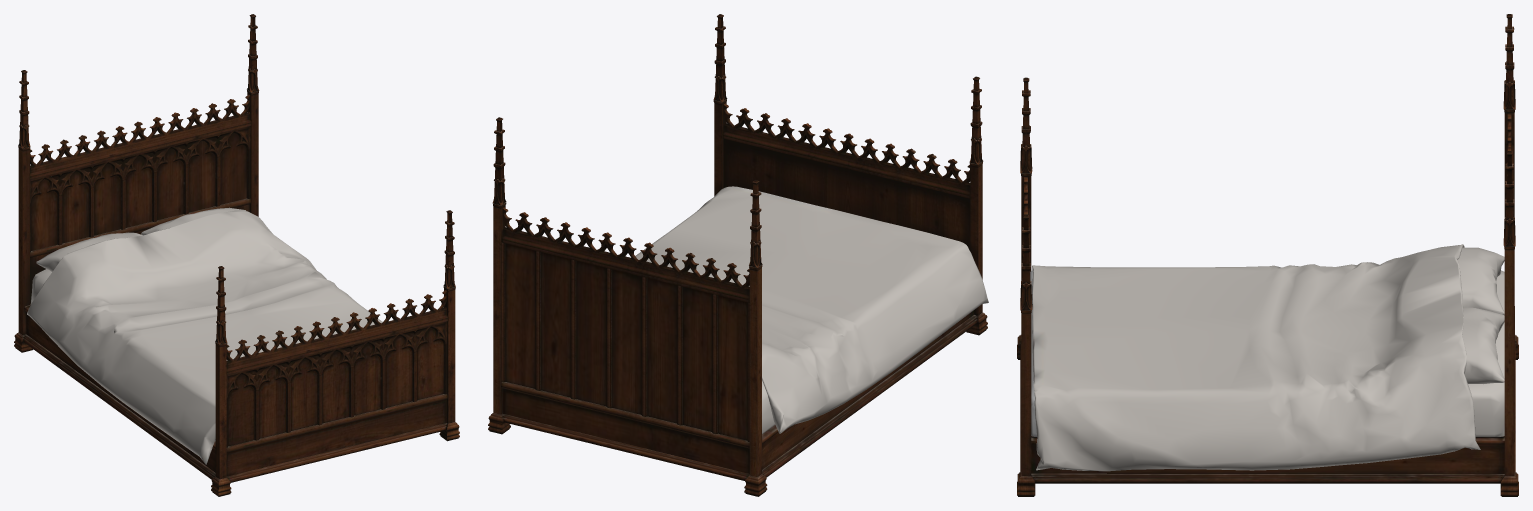
The model's file is bed-carved-oak.glb.
3 views of the same model, side by side, from view 1: azimuth 30°, elevation 25°; view 2: azimuth 150°, elevation 25°; view 3: azimuth 270°, elevation 25° (orthographic). The views are drawn at different scales.
Parts seen in each view (by area): view 1: bed-carved-oak; view 2: bed-carved-oak; view 3: bed-carved-oak.
Part boxes in pixels (box(x1,y1,x2,y2)): bed-carved-oak: box(14, 14, 459, 496); bed-carved-oak: box(488, 14, 988, 496); bed-carved-oak: box(1017, 14, 1518, 496).
Bounding box in the file's own units: 1.49 × 1.53 × 2.04.
Materials: 2 (2 with a texture image).
